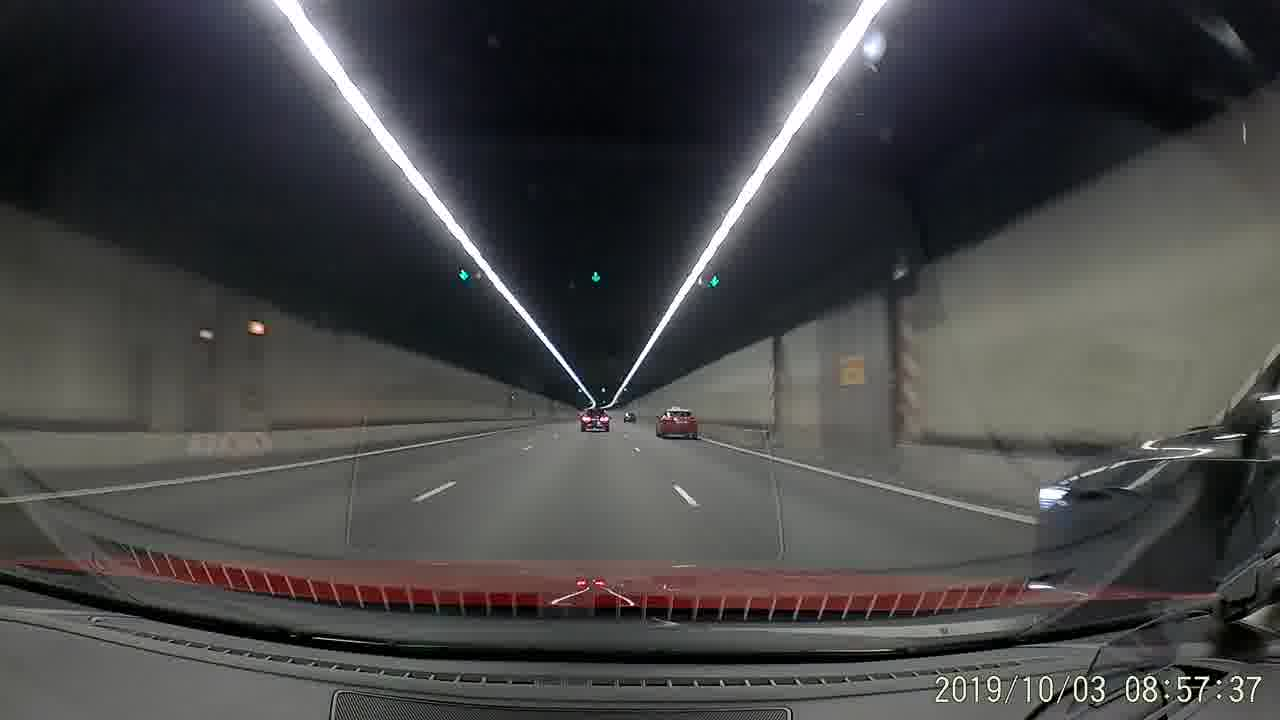car: (1039, 330, 1278, 585), (653, 403, 697, 439), (577, 409, 612, 434), (621, 408, 636, 423)
